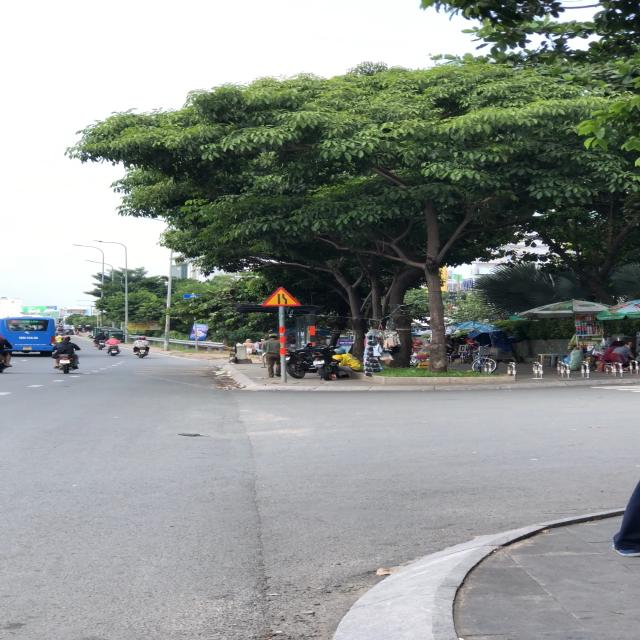Bien bao duong bi thu hep: (260, 286, 304, 307)
